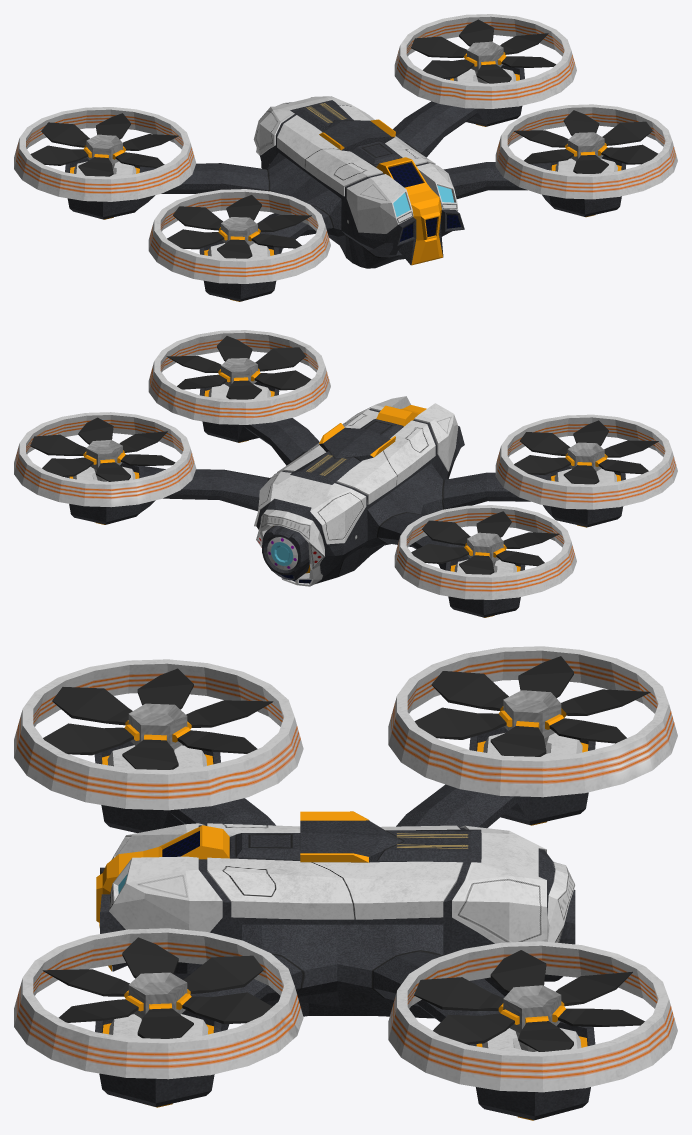
Rendered from low_poly_quadcopter_drone__game_ready_pbr_asset.glb.
The picture shows the model from 3 angles, top to bottom: view 1: azimuth 30°, elevation 25°; view 2: azimuth 150°, elevation 25°; view 3: azimuth 270°, elevation 25°; orthographic projection. The views are drawn at different scales.
Parts seen in each view (by area): view 1: Circle_16, Fan.001_17, Body.003_5, Body_4, Body.004_6, Top.002_25, Top.001_24, Fan.009_19, Back_1, Body.002_11, Top_27, Batary_2 (+4 smaller); view 2: Circle_16, Fan.001_17, Body.003_5, Body_4, Body.004_6, Top.002_25, Top_27, Fan.009_19, Front_23, Top.001_24, Body.002_11, Cam_15 (+2 smaller); view 3: Circle_16, Fan.001_17, Body.003_5, Top.002_25, Body_4, Body.004_6, Top_27, Top.001_24, Fan.009_19, Body.002_11, Back_1, Fan.003_18 (+3 smaller).
Part boxes in pixels (x1,y1,x2,y2): Circle_16: (14, 14, 677, 283); Fan.001_17: (30, 19, 658, 258); Body.003_5: (161, 101, 533, 248); Body_4: (260, 100, 455, 265); Body.004_6: (65, 64, 626, 301); Top.002_25: (277, 105, 435, 196); Top.001_24: (346, 163, 458, 233); Fan.009_19: (86, 41, 604, 246); Back_1: (376, 157, 442, 265); Body.002_11: (74, 68, 617, 258); Top_27: (253, 96, 365, 155); Batary_2: (328, 235, 404, 268); Circle_16: (14, 330, 677, 599); Fan.001_17: (30, 336, 658, 574); Body.003_5: (163, 418, 533, 549); Body_4: (256, 409, 460, 583); Body.004_6: (65, 381, 625, 617); Top.002_25: (277, 409, 435, 504); Top_27: (254, 471, 366, 544); Fan.009_19: (86, 358, 604, 567); Front_23: (256, 509, 324, 586); Top.001_24: (347, 396, 458, 471); Body.002_11: (73, 384, 616, 574); Cam_15: (262, 525, 309, 580); Circle_16: (14, 646, 677, 1092); Fan.001_17: (42, 656, 650, 1051); Body.003_5: (168, 784, 517, 1022); Top.002_25: (207, 823, 463, 919); Body_4: (112, 820, 555, 996); Body.004_6: (94, 726, 595, 1120); Top_27: (452, 825, 546, 943); Top.001_24: (109, 823, 222, 932); Fan.009_19: (128, 690, 561, 1051); Body.002_11: (107, 733, 582, 1051); Back_1: (96, 825, 229, 971); Fan.003_18: (124, 706, 566, 1024).
Size of the model in its own units: 0.7055 by 0.1313 by 0.4738.
2 materials, 2 textured.
